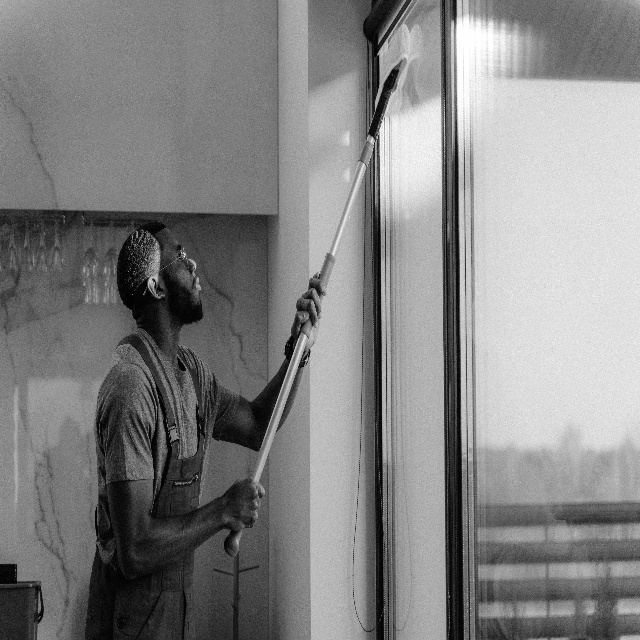Gafas: (143, 246, 189, 296)
Sin_guantes: (290, 270, 327, 354), (223, 476, 265, 533)
